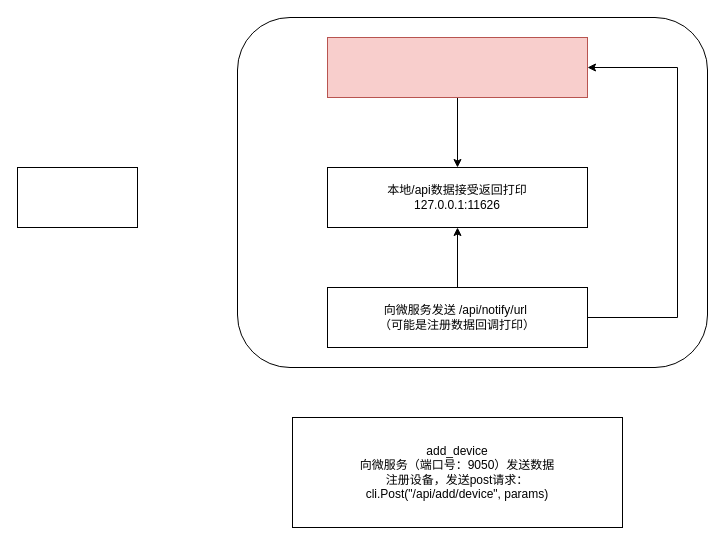
This 725x545 diagram has some shape labels left out. The centre of each missing label's shape, as x and y in pixels:
"服务端" belongs at point (77, 197).
"运行 PuduRobotOpenServer-win.exe 传入参数：gSDKParam" belongs at point (457, 67).
